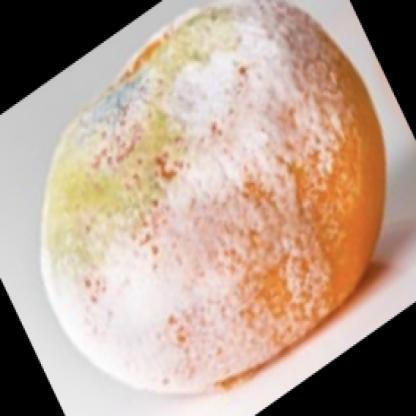rotten: (47, 2, 385, 390)
